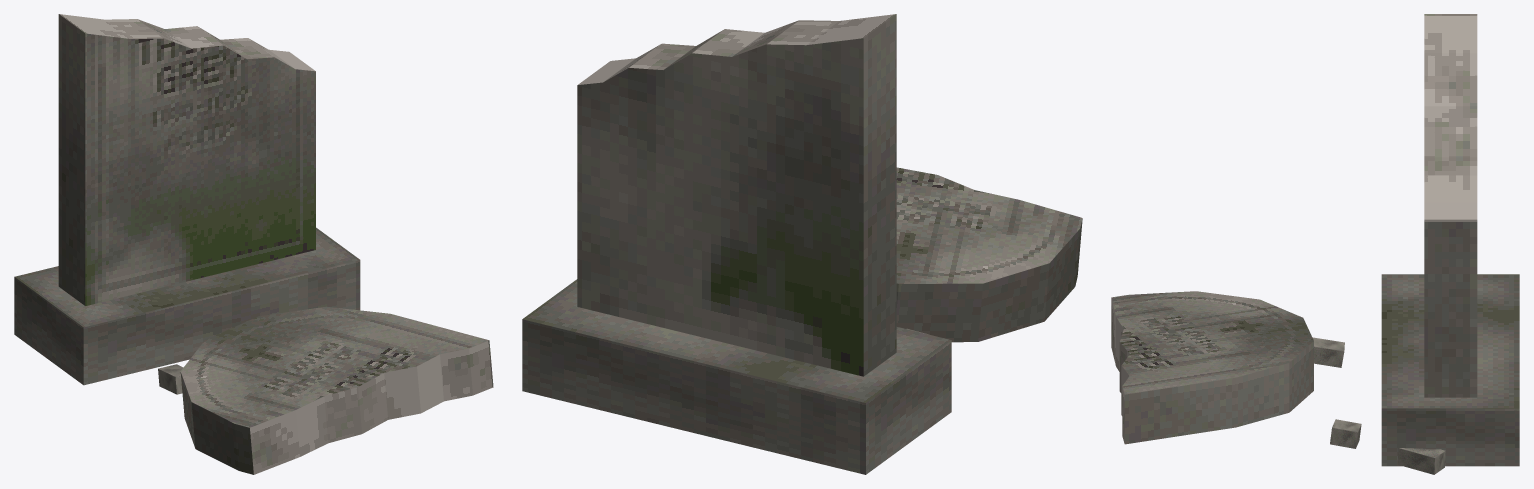
File: gravestone_broken.glb
The picture shows the model from 3 angles, left to right: view 1: azimuth 30°, elevation 25°; view 2: azimuth 150°, elevation 25°; view 3: azimuth 270°, elevation 25°; orthographic projection. The views are drawn at different scales.
Visible parts, largest first — view 1: gravestone_broken; view 2: gravestone_broken; view 3: gravestone_broken.
Boxes of the visible parts, left/top/right/bottom form: gravestone_broken: left=14, top=14, right=493, bottom=474; gravestone_broken: left=522, top=14, right=1082, bottom=474; gravestone_broken: left=1111, top=14, right=1519, bottom=474.
Bounding box in the file's own units: 0.6398 × 0.685 × 0.77.
1 material, 1 textured.
